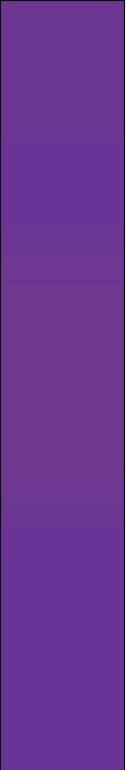safe: (8, 13, 119, 761)
